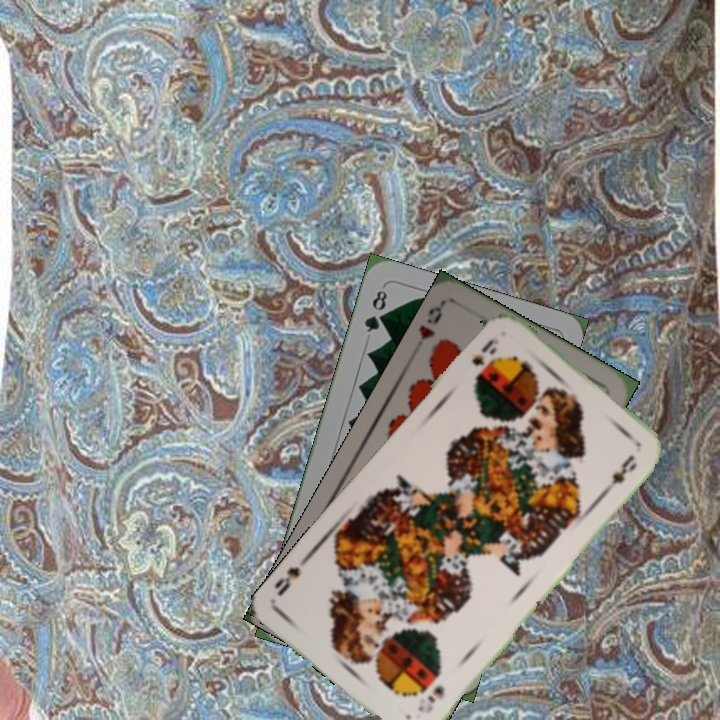G8: (360, 285, 390, 335)
H9: (415, 299, 447, 343)
SO: (467, 334, 500, 382), (413, 680, 447, 717)
